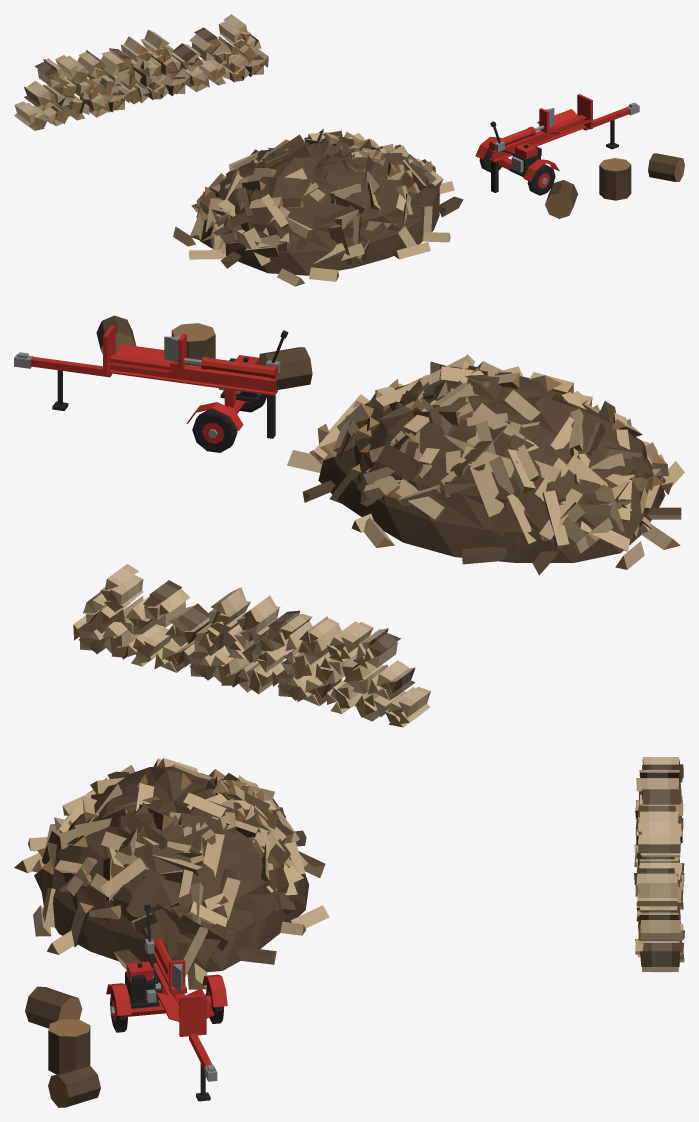
File: splitting-yard.glb
The picture shows the model from 3 angles, top to bottom: view 1: azimuth 30°, elevation 25°; view 2: azimuth 150°, elevation 25°; view 3: azimuth 270°, elevation 25°; orthographic projection. The views are drawn at different scales.
Visible parts, largest first — view 1: SplittingYard; view 2: SplittingYard; view 3: SplittingYard.
Boxes of the visible parts, bbox=[...] form: SplittingYard: bbox=[14, 14, 684, 286]; SplittingYard: bbox=[14, 315, 684, 727]; SplittingYard: bbox=[14, 757, 684, 1107].
Bounding box in the file's own units: 6.98 × 1.28 × 6.42.
